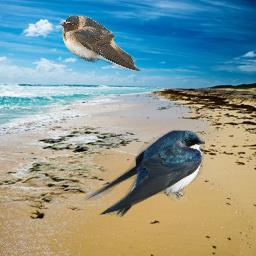Swallow: (84, 129, 205, 217), (59, 15, 141, 71)
